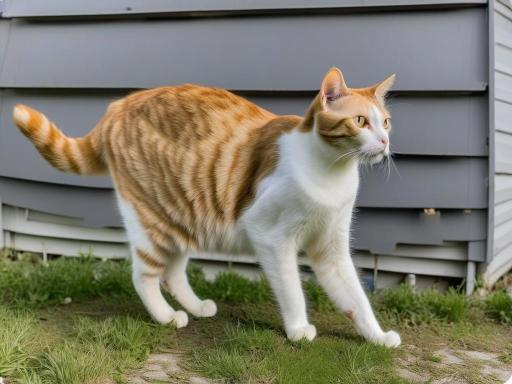cat_standing: (13, 68, 400, 346)
